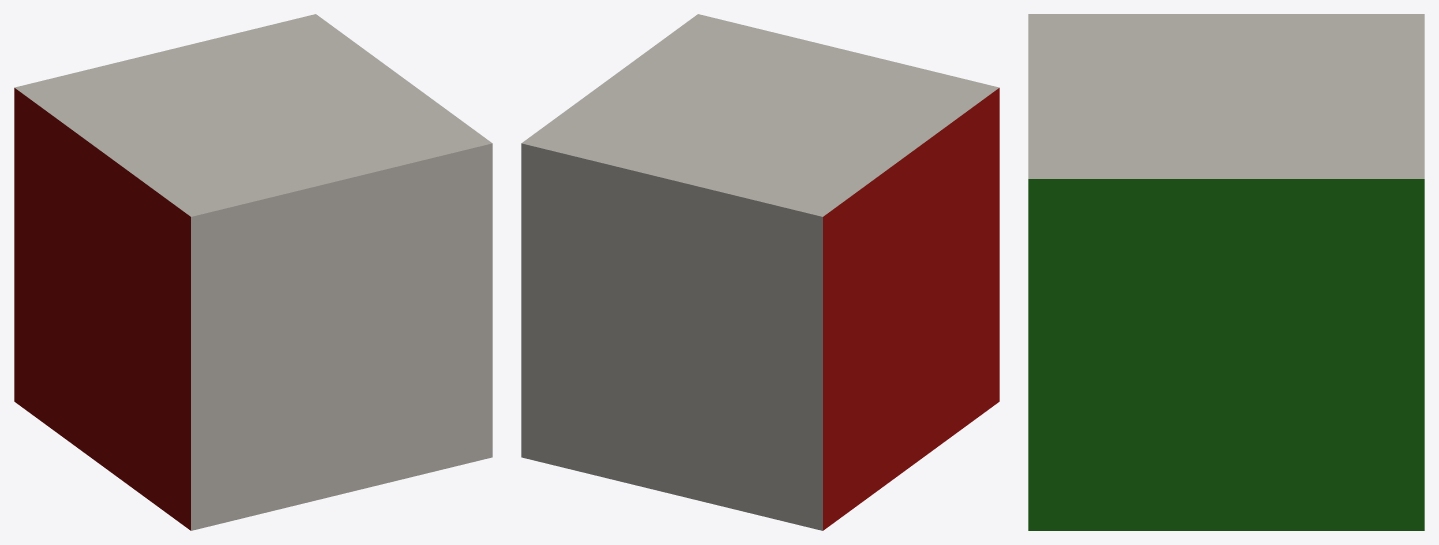
Rendered from CornellBox2.obj.
The picture shows the model from 3 angles, left to right: view 1: azimuth 30°, elevation 25°; view 2: azimuth 150°, elevation 25°; view 3: azimuth 270°, elevation 25°; orthographic projection. The views are drawn at different scales.
Parts seen in each view (by area): view 1: CornellBox; view 2: CornellBox; view 3: CornellBox.
Boxes of the visible parts, x1,y1,x2,y2 form: CornellBox: (14, 14, 492, 530); CornellBox: (521, 14, 999, 530); CornellBox: (1028, 14, 1424, 530).
Size of the model in its own units: 2 by 1.99 by 2.03.
